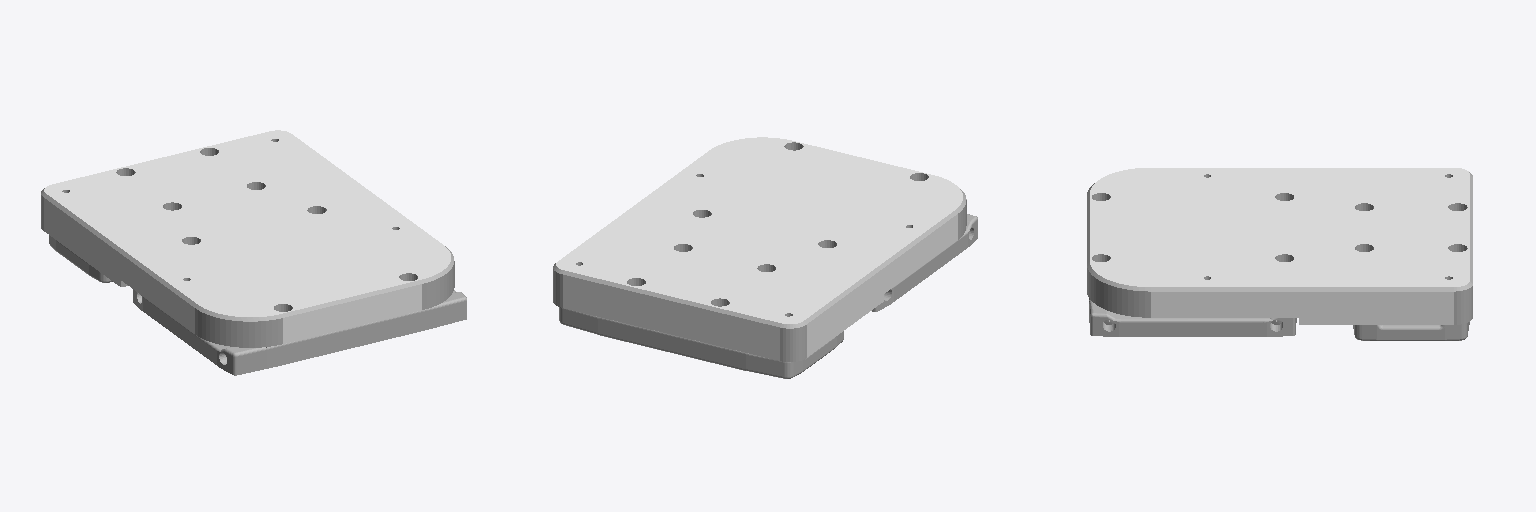
Rendered from Joint_LT_0_1.obj.
3 renders of one model, left to right at view 1: azimuth 30°, elevation 25°; view 2: azimuth 150°, elevation 25°; view 3: azimuth 270°, elevation 25°, orthographic.
Parts seen in each view (by area): view 1: Joint_LT_0_1, Shuttle_LT_0_0_1, Shuttle_LT_0_0_2; view 2: Joint_LT_0_1, Shuttle_LT_0_0_2, Shuttle_LT_0_0_1; view 3: Joint_LT_0_1, Shuttle_LT_0_0_1, Shuttle_LT_0_0_2.
Boxes of the visible parts, x1=… form: Joint_LT_0_1: x1=41, y1=130, x2=454, y2=347; Shuttle_LT_0_0_1: x1=133, y1=289, x2=466, y2=375; Shuttle_LT_0_0_2: x1=49, y1=235, x2=112, y2=282; Joint_LT_0_1: x1=553, y1=137, x2=966, y2=361; Shuttle_LT_0_0_2: x1=559, y1=307, x2=843, y2=378; Shuttle_LT_0_0_1: x1=872, y1=214, x2=977, y2=311; Joint_LT_0_1: x1=1087, y1=168, x2=1472, y2=324; Shuttle_LT_0_0_1: x1=1089, y1=298, x2=1296, y2=336; Shuttle_LT_0_0_2: x1=1353, y1=322, x2=1469, y2=340.
Size of the model in its own units: 180 by 39.2 by 240.